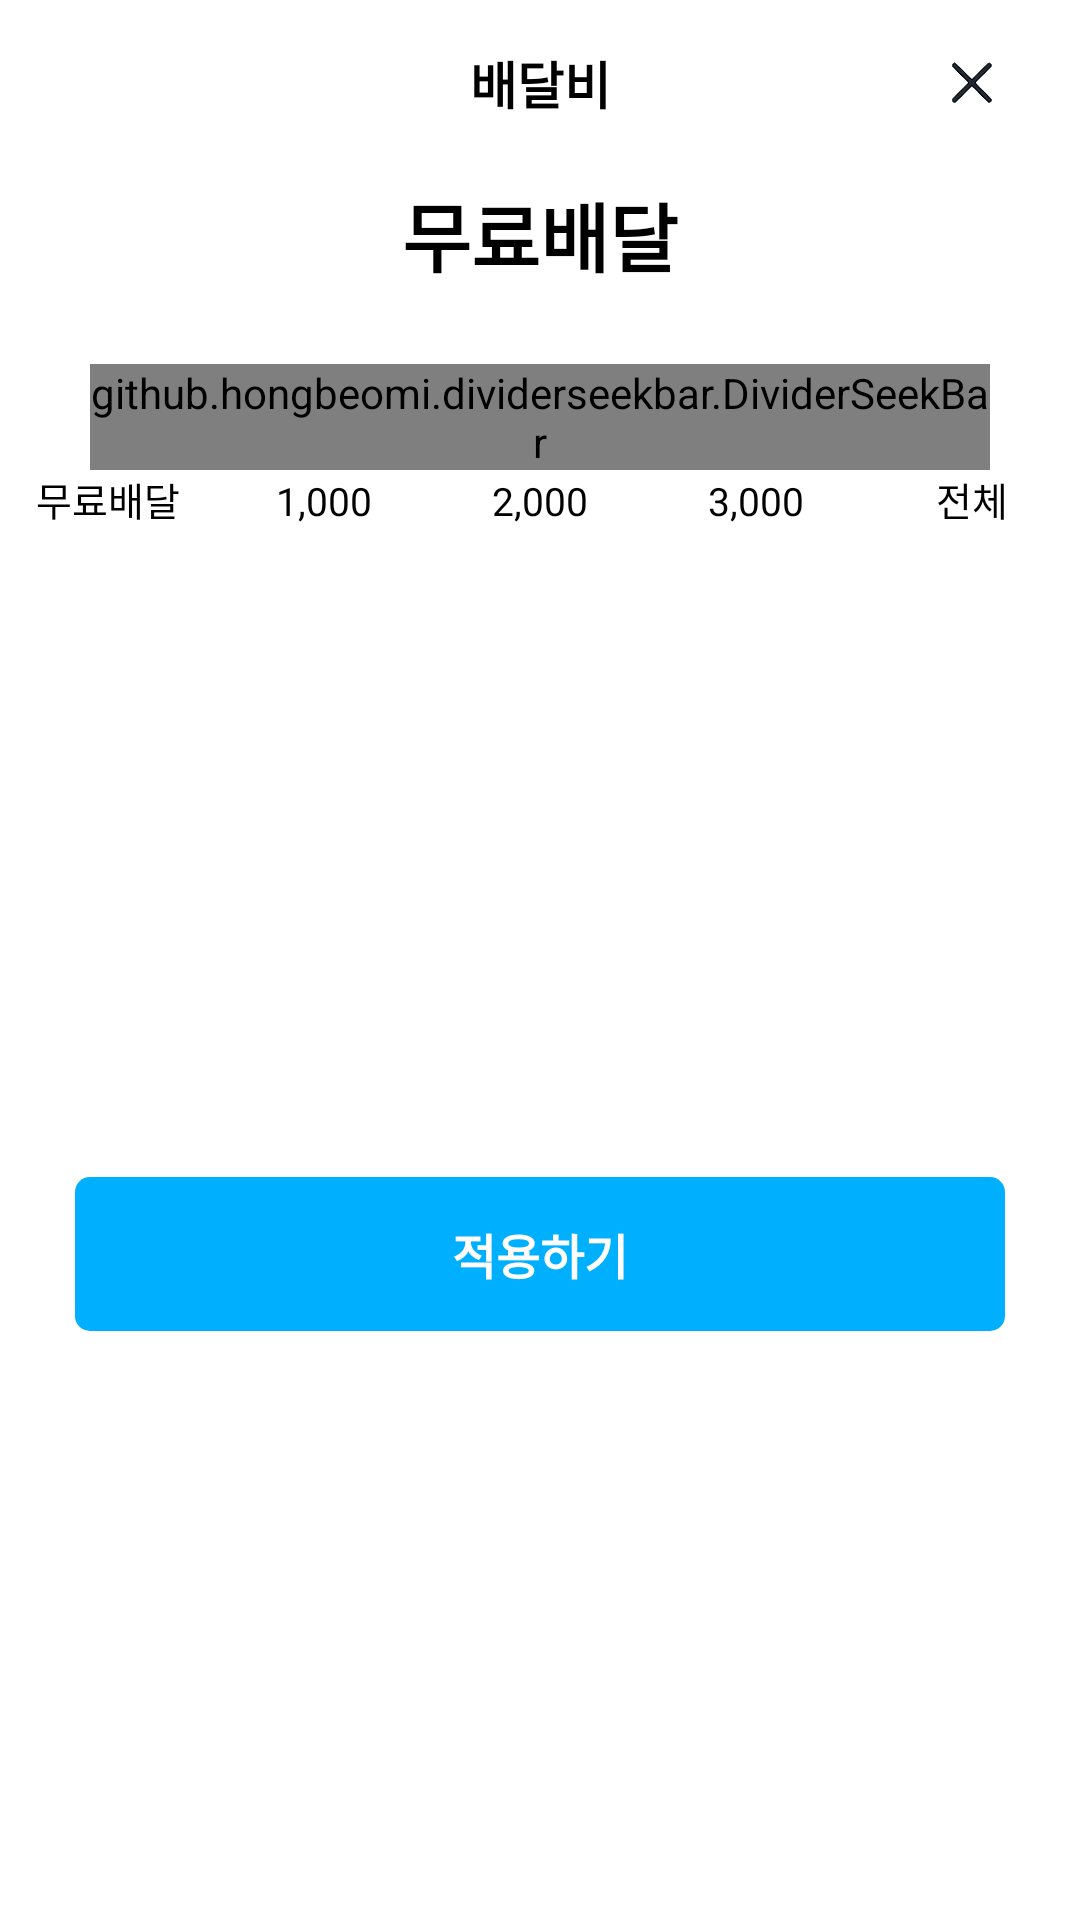

Icons on this 1080*1920 Android screen, each with the point to tap as [x,y]:
login quit: [972,82]
